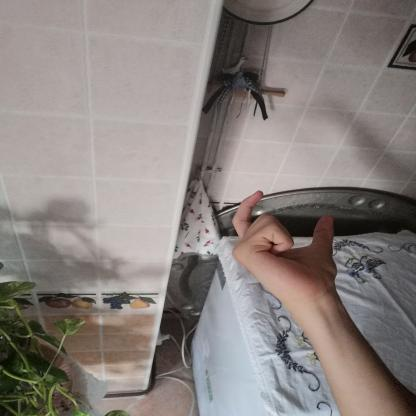NOON: (216, 183, 349, 310)
